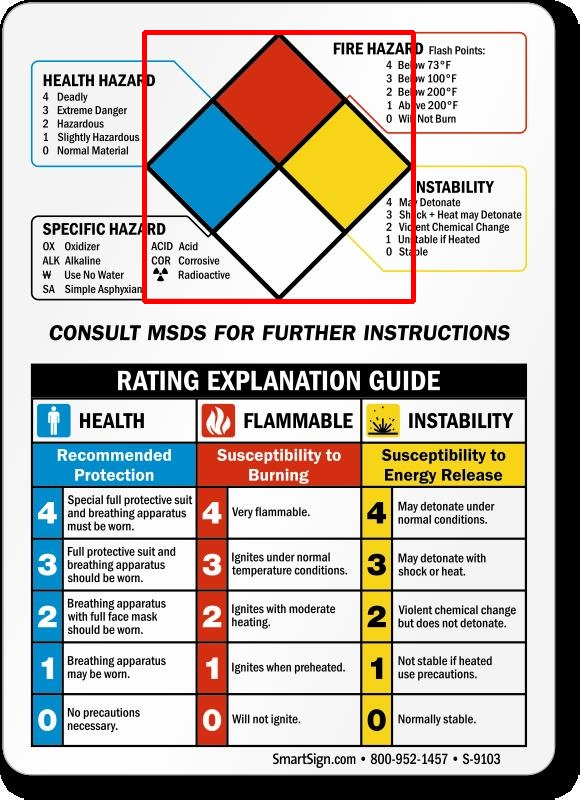nfpa: (144, 32, 413, 301)
